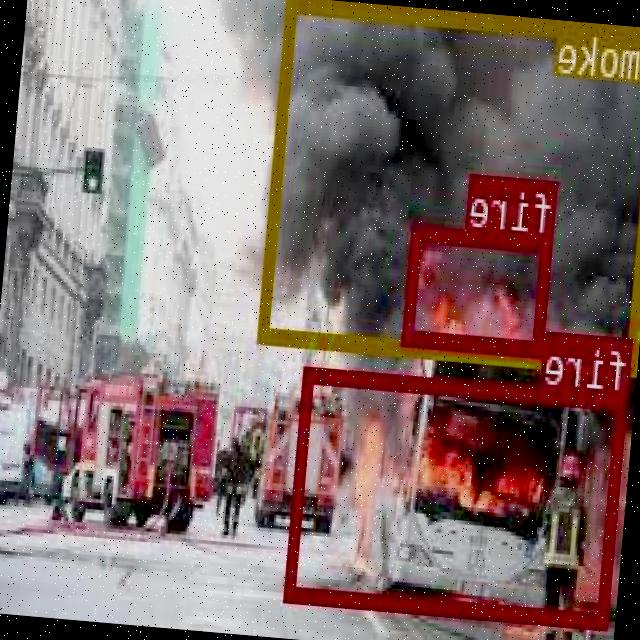fire: (288, 364, 630, 626), (404, 222, 556, 352)
smoke: (261, 0, 640, 374)
